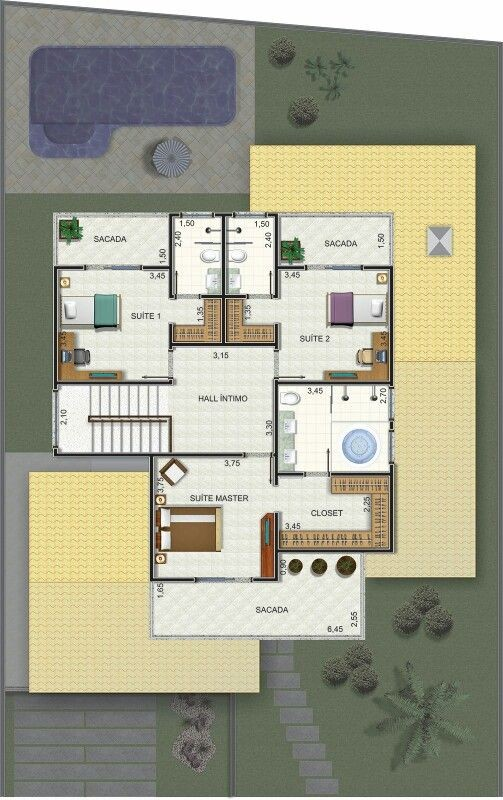balcony: (150, 578, 365, 641), (52, 213, 172, 269), (274, 213, 394, 269)
restroom: (169, 213, 225, 298), (222, 213, 278, 298)
room: (149, 453, 276, 582), (54, 266, 172, 384), (275, 266, 393, 384), (275, 472, 394, 554)
